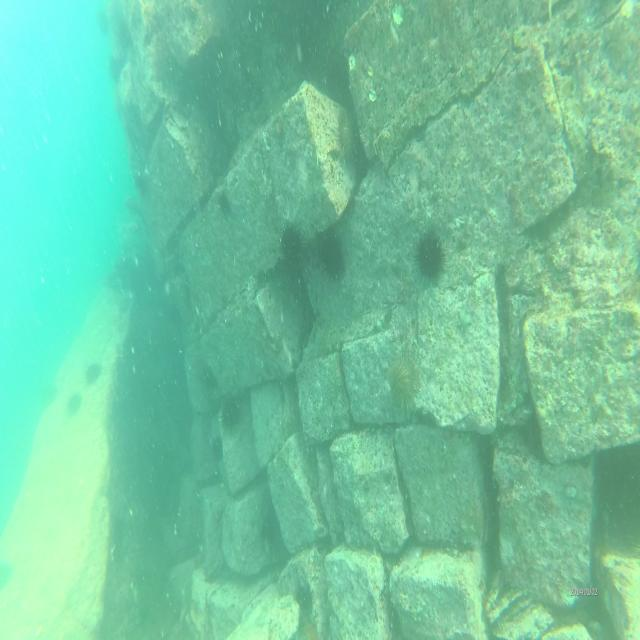echinus: (386, 352, 419, 415), (416, 229, 449, 289), (334, 106, 364, 169), (316, 228, 346, 282), (280, 223, 305, 280), (219, 393, 247, 431), (294, 582, 318, 616), (208, 432, 228, 468), (202, 363, 222, 396), (217, 186, 233, 222), (62, 390, 84, 414), (85, 358, 105, 384)
